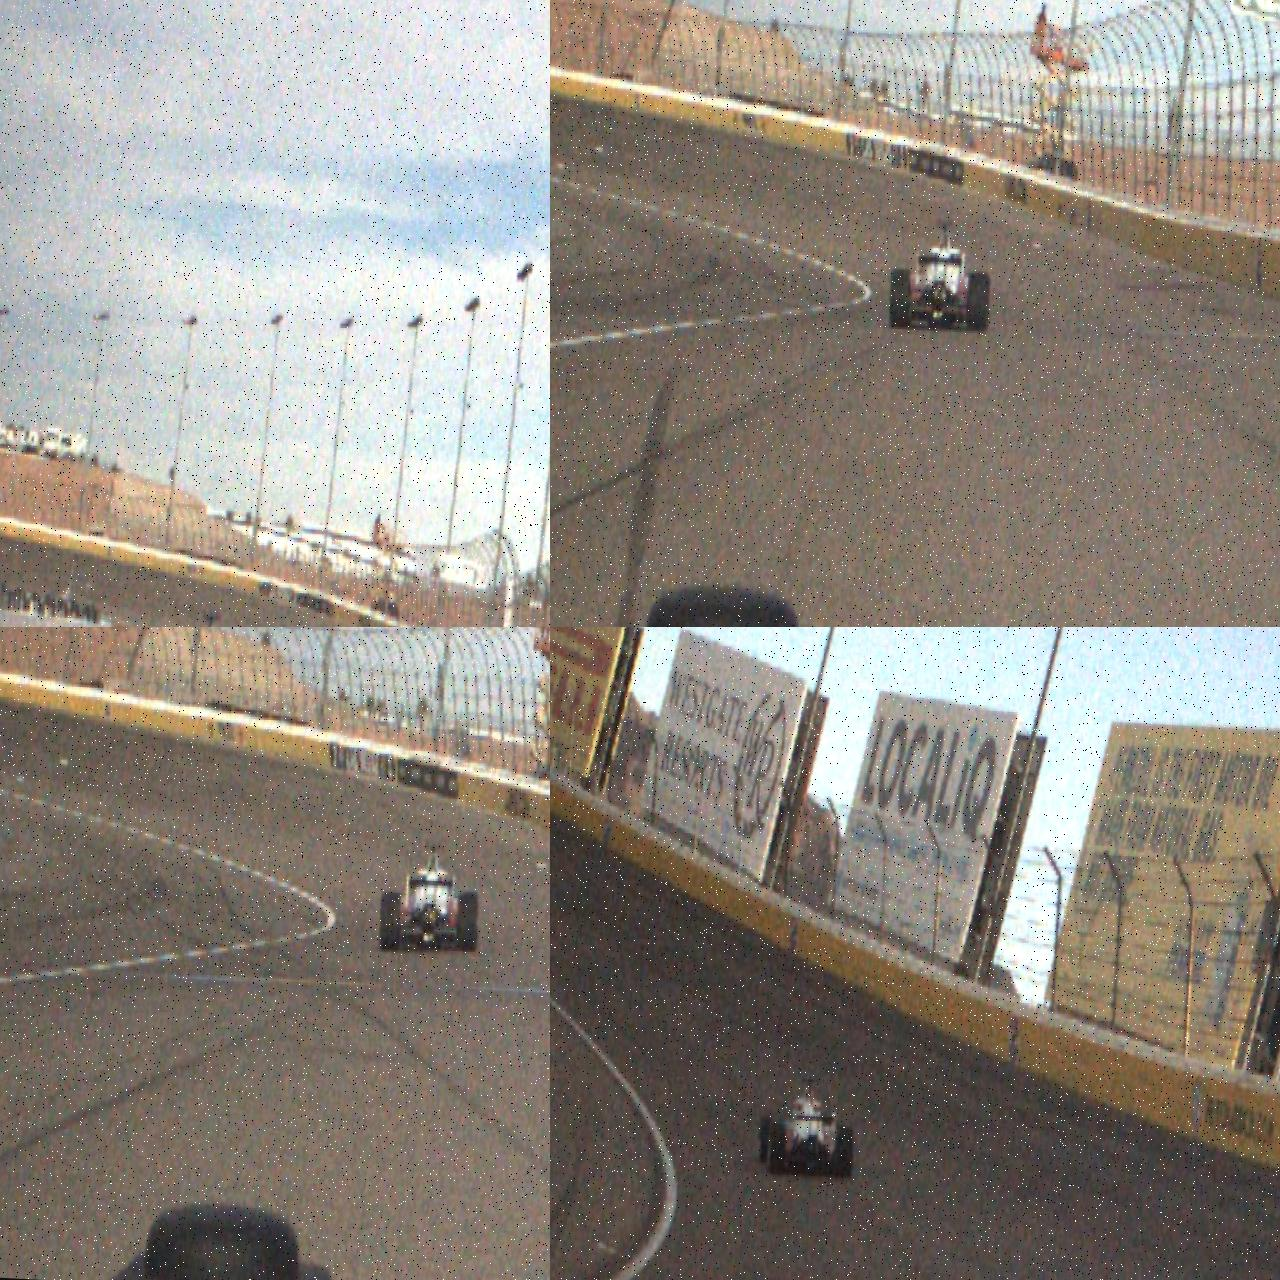AV: (888, 216, 994, 334), (377, 840, 482, 956), (755, 1074, 857, 1182)
Wheel: (966, 271, 990, 333), (377, 892, 402, 952), (456, 891, 479, 952), (888, 268, 911, 328), (835, 1126, 855, 1180), (767, 1124, 788, 1175), (756, 1116, 772, 1164)
